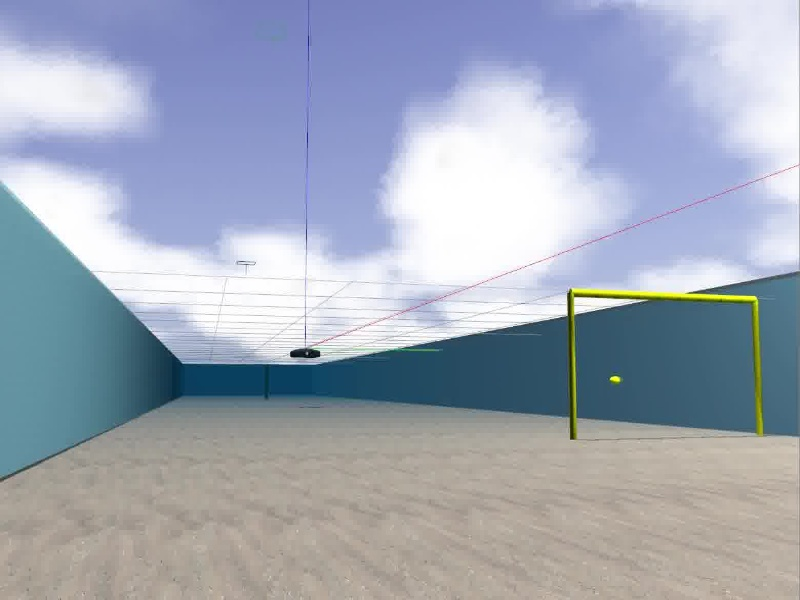gate: (567, 288, 764, 441)
